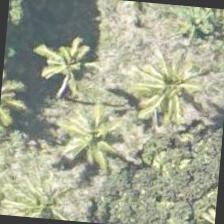Kelapa_Sawit: (36, 97, 134, 195), (122, 27, 220, 125), (2, 13, 100, 110), (0, 158, 91, 223)
